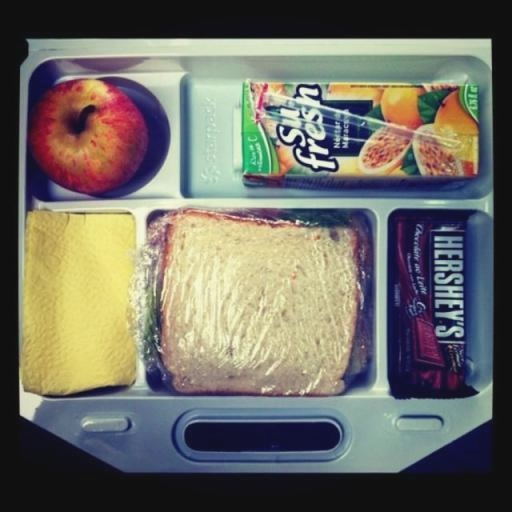fruit: (174, 85, 512, 260), (200, 84, 512, 260), (233, 87, 512, 259), (226, 64, 512, 216), (200, 63, 512, 197), (188, 49, 512, 167), (12, 69, 44, 225)
